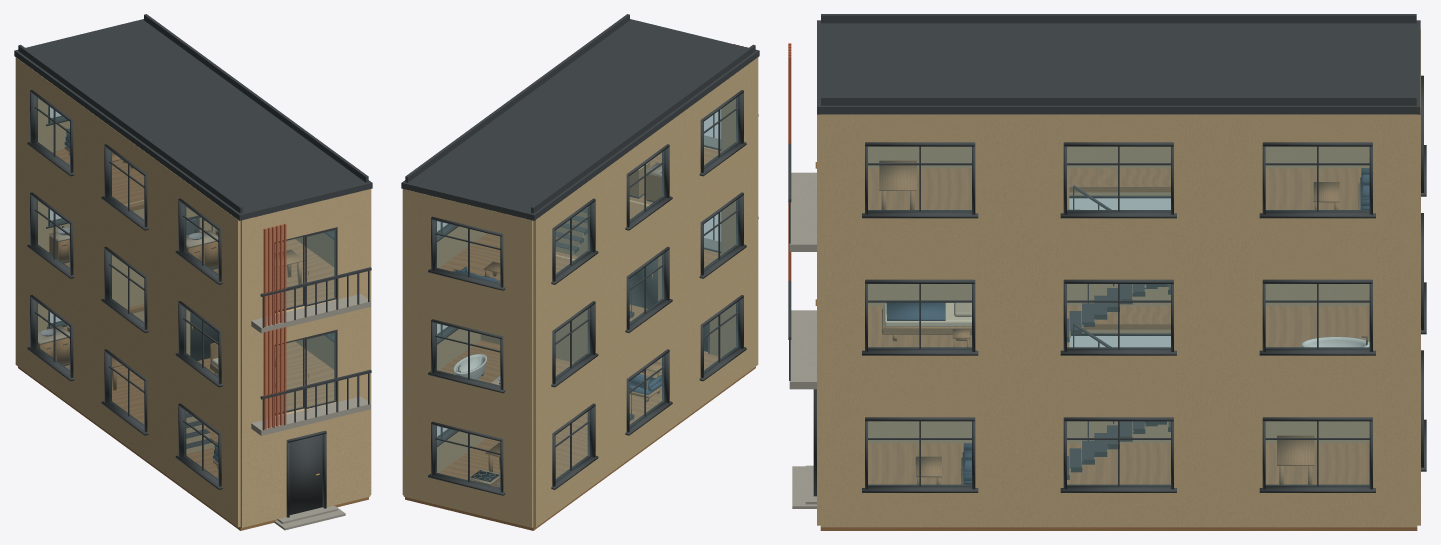
File: bld-tube-lod-7208913c23ad.glb
3 renders of one model, left to right at view 1: azimuth 30°, elevation 25°; view 2: azimuth 150°, elevation 25°; view 3: azimuth 270°, elevation 25°, orthographic. The views are drawn at different scales.
Parts seen in each view (by area): view 1: surface_plaster, surface_graphite, surface_Optical_smoke, surface_oak, surface_terracotta, surface_stone, surface_terrazzo; view 2: surface_plaster, surface_graphite, surface_Optical_smoke, surface_oak, surface_denim, surface_porcelain; view 3: surface_plaster, surface_graphite, surface_Optical_smoke, surface_oak, surface_stone, surface_denim, surface_ivory.
Boxes of the visible parts, x1,y1,x2,y2 form: surface_plaster: (15,57,371,527); surface_graphite: (14,14,372,517); surface_Optical_smoke: (36,97,335,480); surface_oak: (18,128,368,530); surface_terracotta: (263,223,286,429); surface_stone: (251,294,370,530); surface_terrazzo: (38,229,218,344); surface_plaster: (402,57,758,527); surface_graphite: (401,14,759,495); surface_Optical_smoke: (436,97,737,488); surface_oak: (405,147,755,530); surface_denim: (453,267,661,394); surface_porcelain: (453,354,486,379); surface_plaster: (817,29,1420,527); surface_graphite: (788,14,1426,496); surface_Optical_smoke: (868,147,1369,485); surface_oak: (820,160,1417,530); surface_stone: (789,172,816,508); surface_denim: (886,168,1369,484); surface_ivory: (884,303,971,326).
Size of the model in its own units: 4.39 by 9.61 by 12.85.
Materials: 15 (6 with a texture image).
